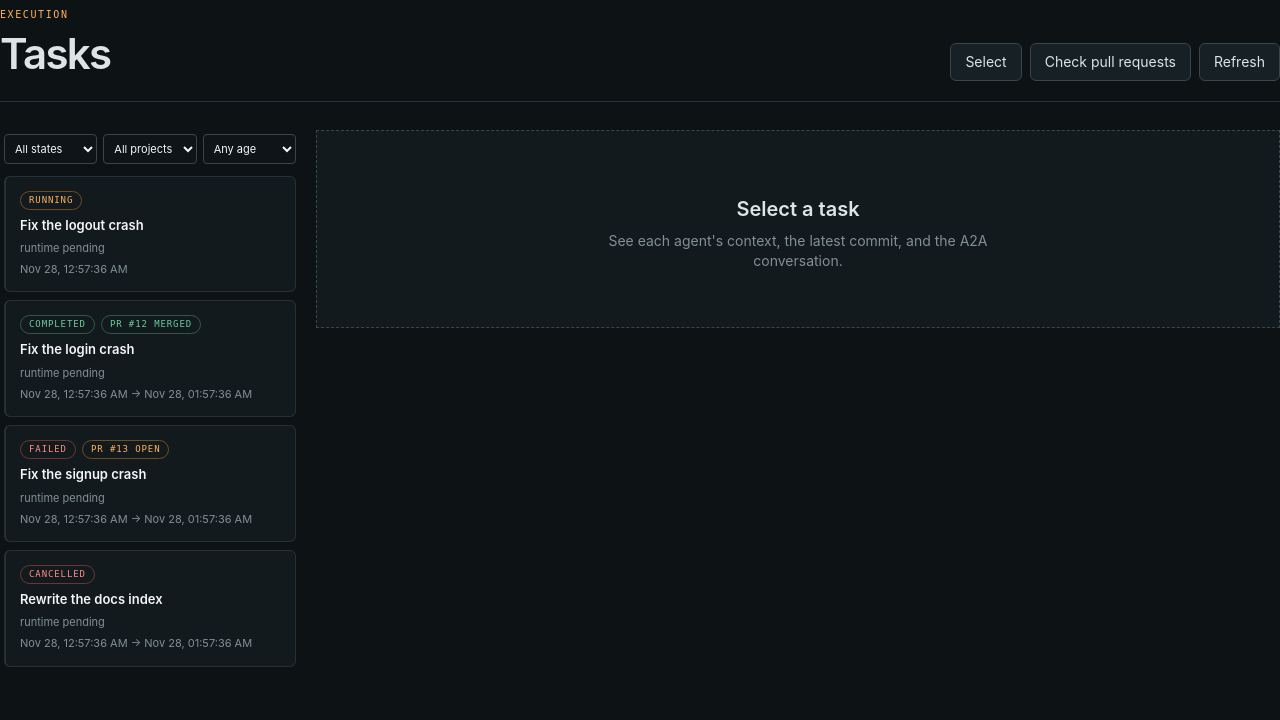
Scenario: TasksView history › selects all finished tasks in the filter and skips running ones
The image size is (1280, 720).
Click the button "Select" at [986, 62], box [950,42,1022,80]
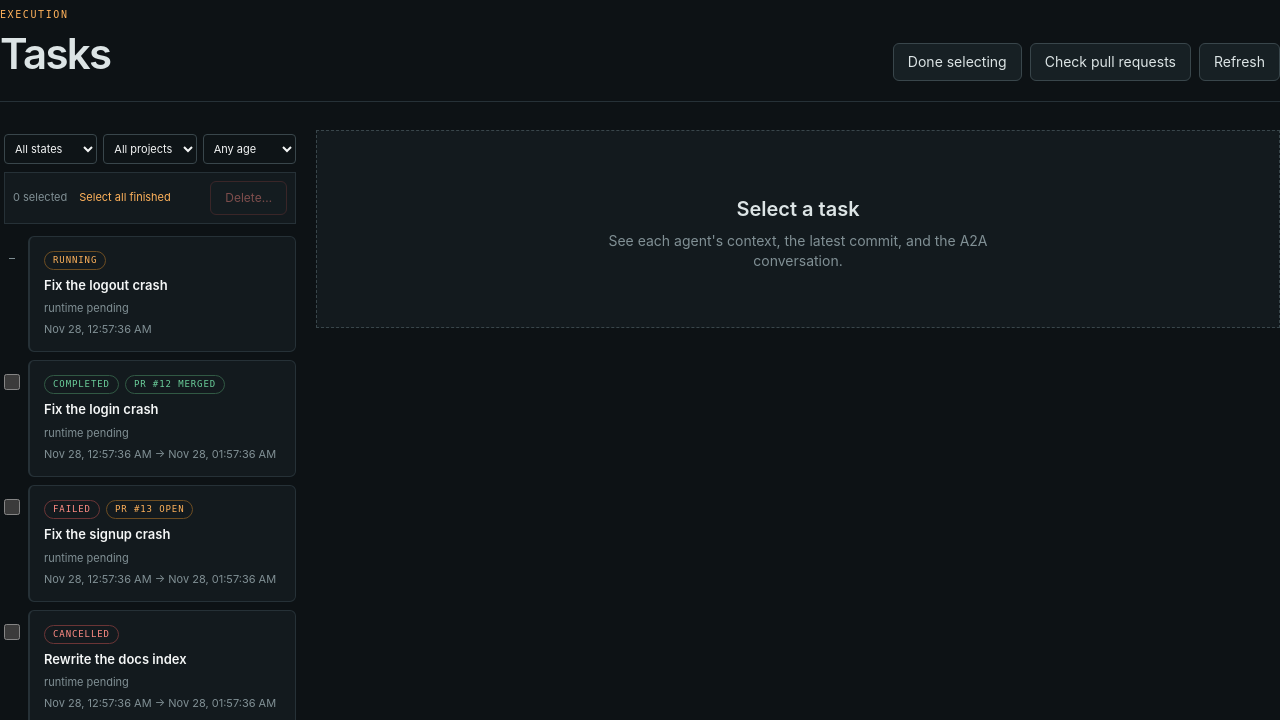
Select "Inkuna" in the dropdown named "Filter by project" at [150, 148], box [103,134,197,164]
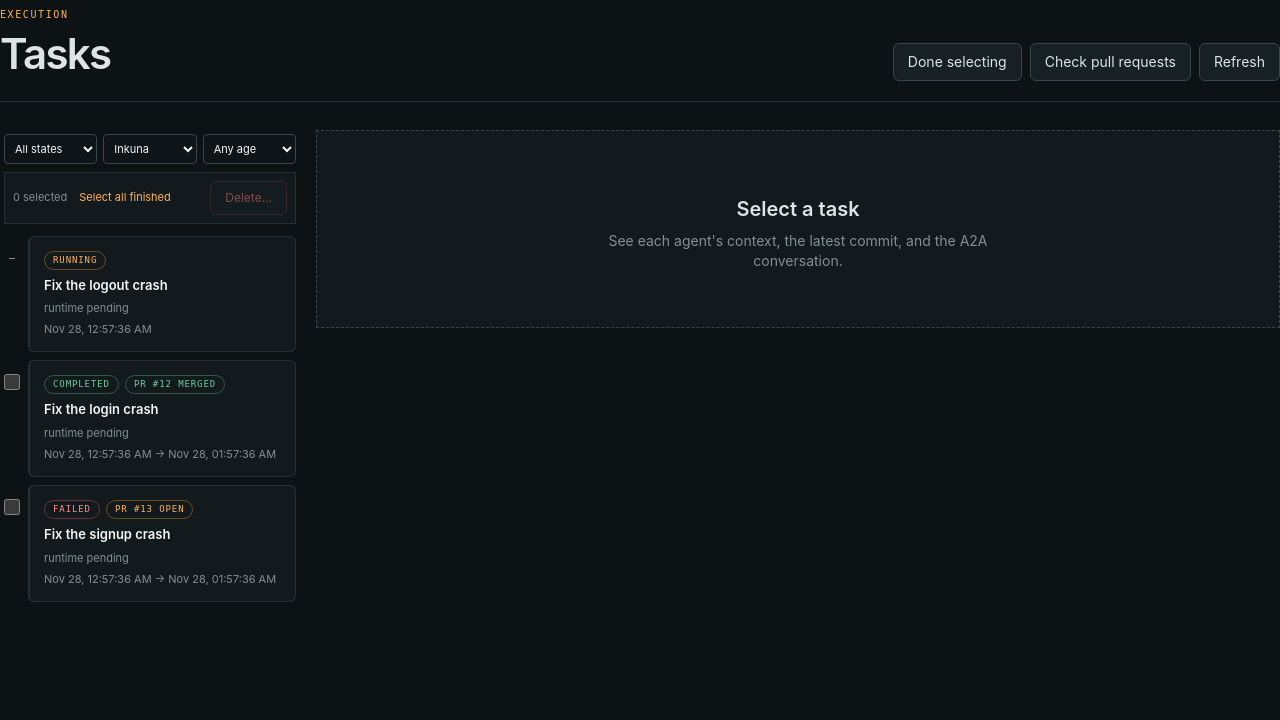
Click the button "Select all finished" at [125, 198], box [79,189,171,206]
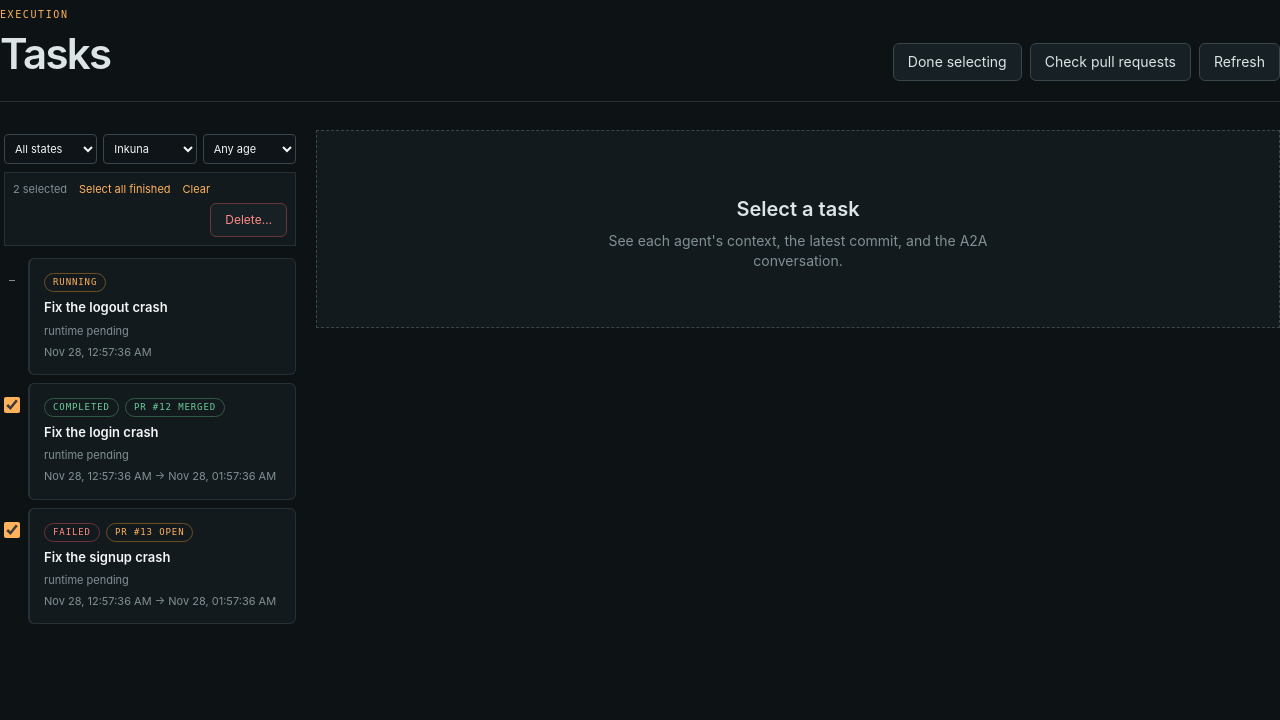
Check: the checkbox named "Select task Fix the login crash" is checked, box [4,397,20,413]
Check: the checkbox named "Select task Fix the signup crash" is checked, box [4,522,20,538]
Check: the text "2 selected" is shown, box [13,180,67,197]
# A task the filter hides is never part of the delete.
Select "All projects" in the dropdown named "Filter by project" at [150, 148], box [103,134,197,164]
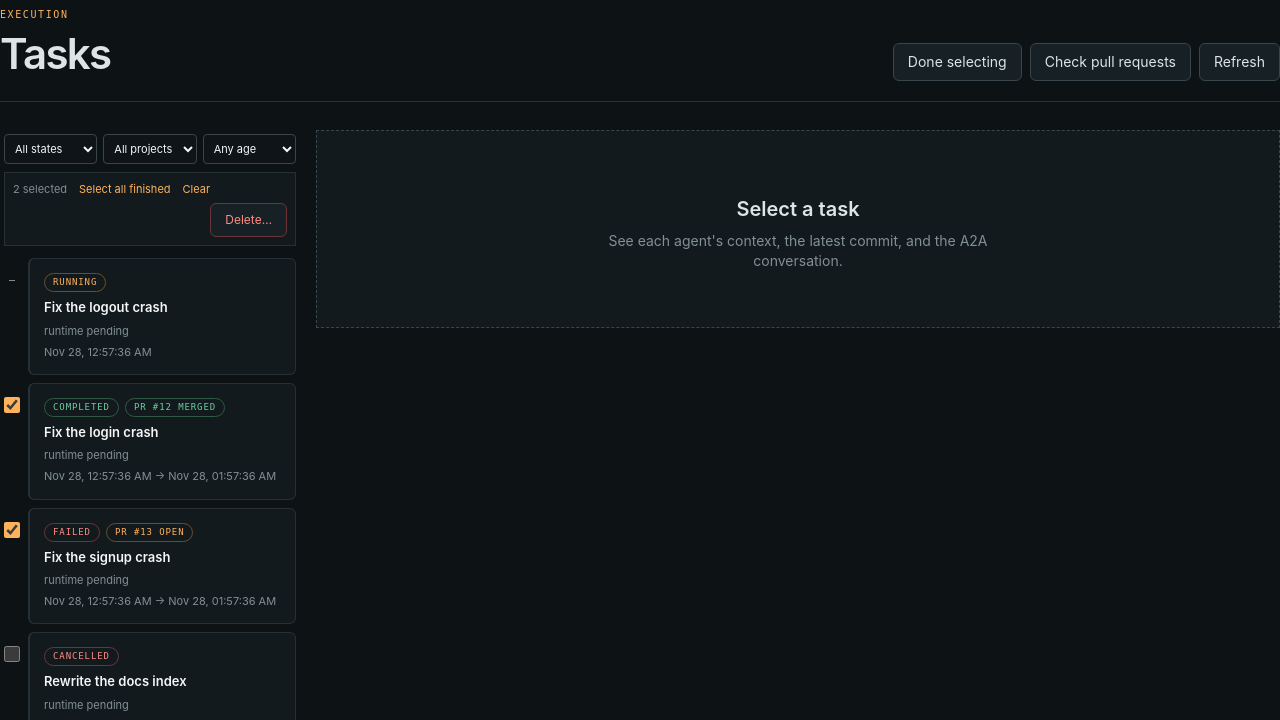
Check: the checkbox named "Select task Rewrite the docs index" is not checked, box [4,646,20,662]
Click the button "Delete…" at [249, 220], box [210,203,287,237]
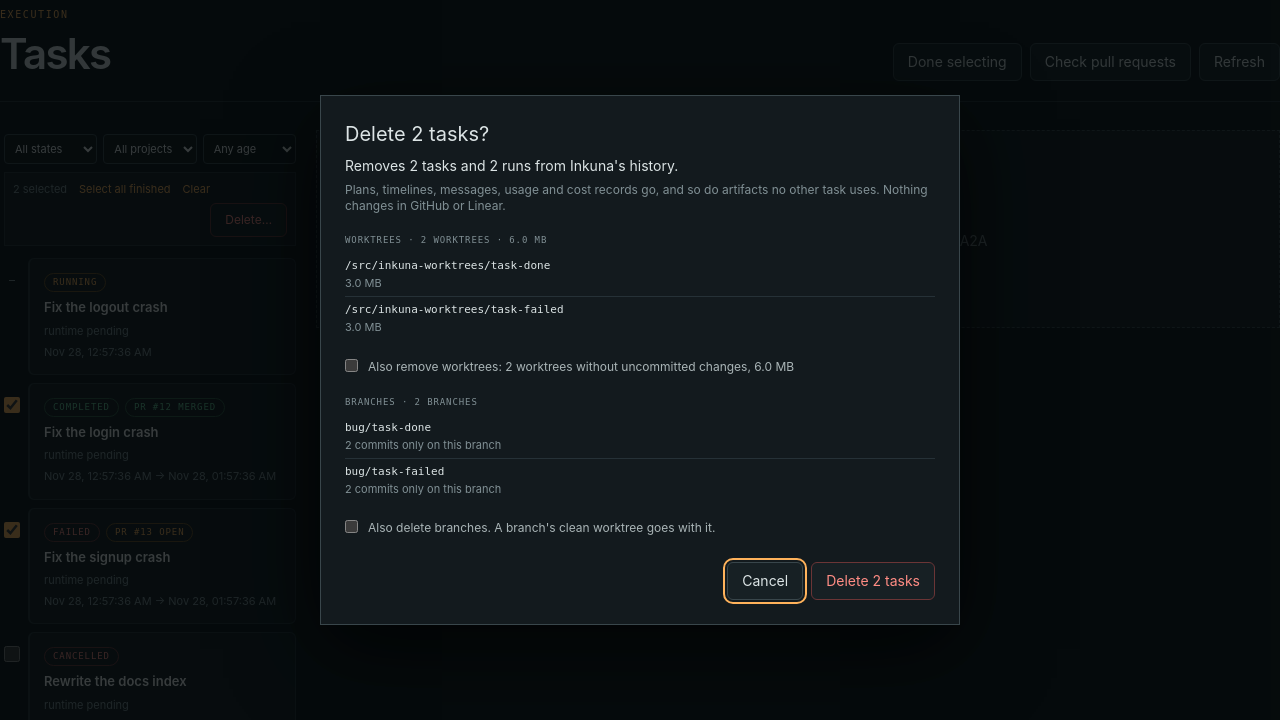
Check: the dialog is shown, box [320,95,960,625]
